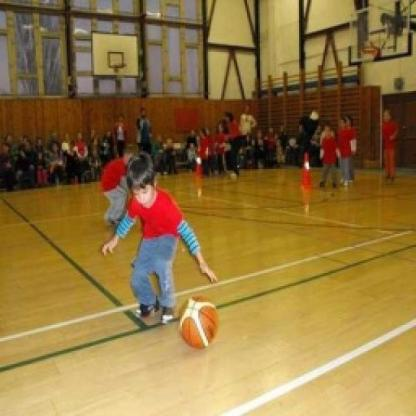basketball: (173, 290, 225, 354)
